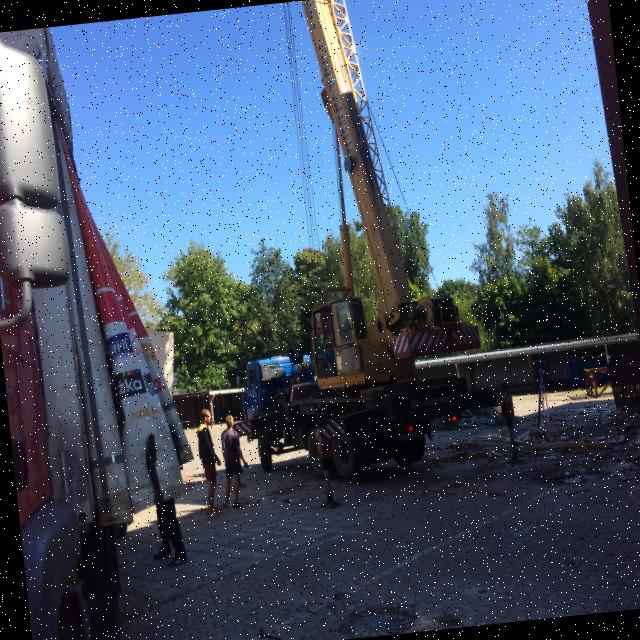NoHelmet: (200, 409, 213, 425), (225, 415, 235, 430)
